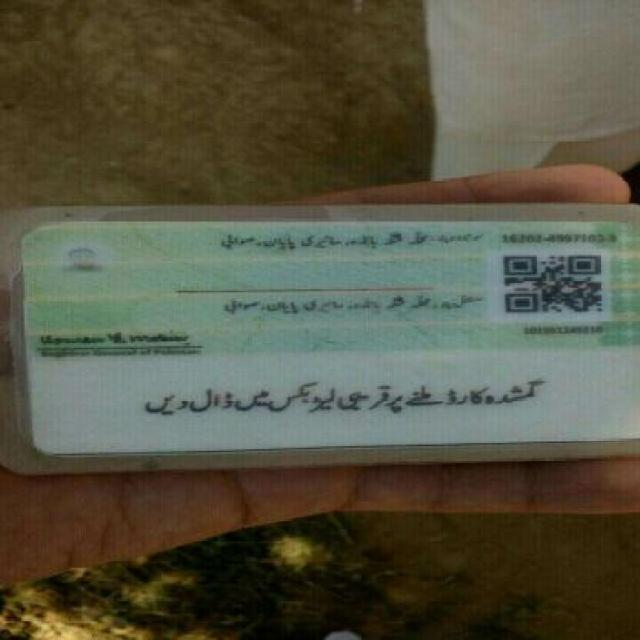Back: (11, 208, 632, 449)
